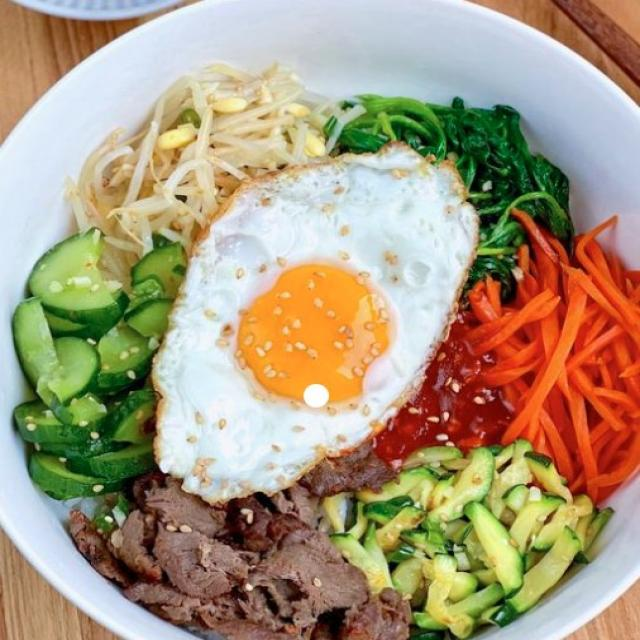Carbohydrate: (174, 195, 492, 516)
Kaow-Yum: (0, 26, 640, 640)
Protein: (146, 141, 478, 499), (69, 469, 415, 640)
Vegetable: (337, 87, 640, 618), (14, 62, 319, 499)
